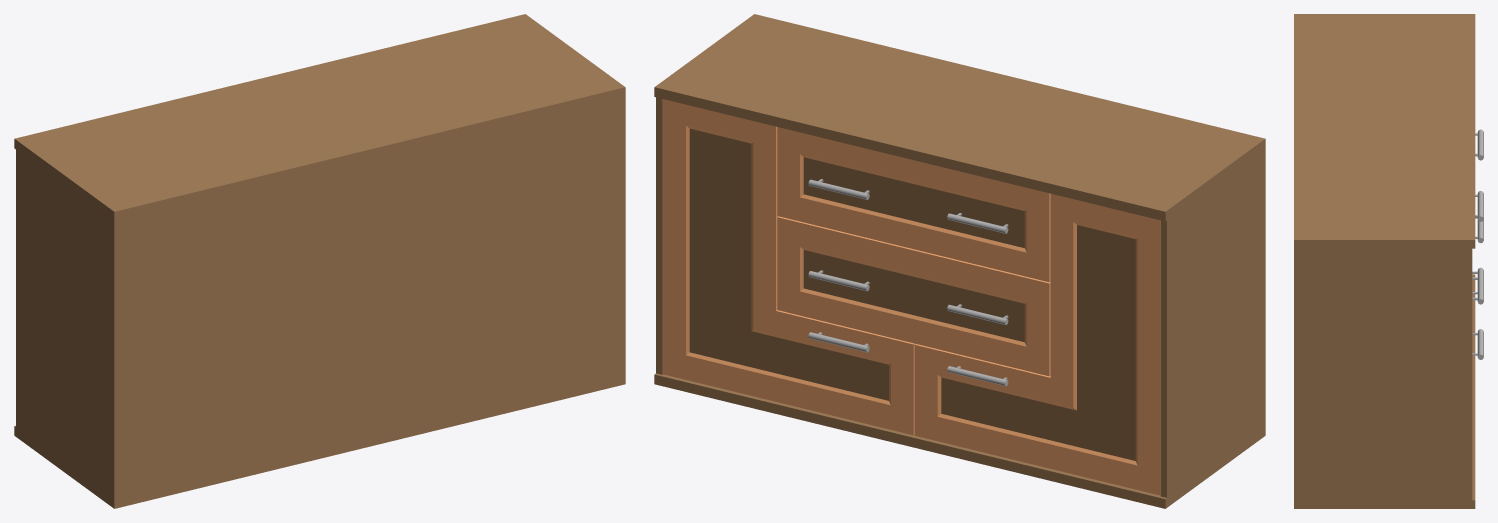
File: tv_table_2.FBX
The picture shows the model from 3 angles, left to right: view 1: azimuth 30°, elevation 25°; view 2: azimuth 150°, elevation 25°; view 3: azimuth 270°, elevation 25°; orthographic projection. The views are drawn at different scales.
Visible parts, largest first — view 1: tv_table_2; view 2: tv_table_2; view 3: tv_table_2.
Part boxes in pixels (<box>): tv_table_2: <box>14,14,625,508</box>; tv_table_2: <box>654,14,1265,508</box>; tv_table_2: <box>1294,14,1483,508</box>.
Size of the model in its own units: 0.9002 by 0.5001 by 0.3196.
